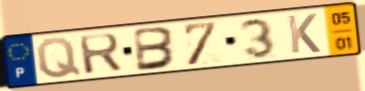3: (239, 16, 278, 60)
7: (182, 20, 220, 68)
B: (133, 25, 179, 73)
K: (285, 12, 323, 55)
Q: (34, 36, 84, 80)
R: (76, 32, 124, 76)
